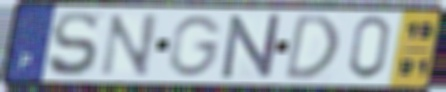0: (346, 14, 393, 83)
D: (281, 12, 342, 83)
G: (166, 13, 226, 78)
N: (220, 12, 283, 81), (96, 12, 161, 78)
S: (45, 9, 101, 79)
